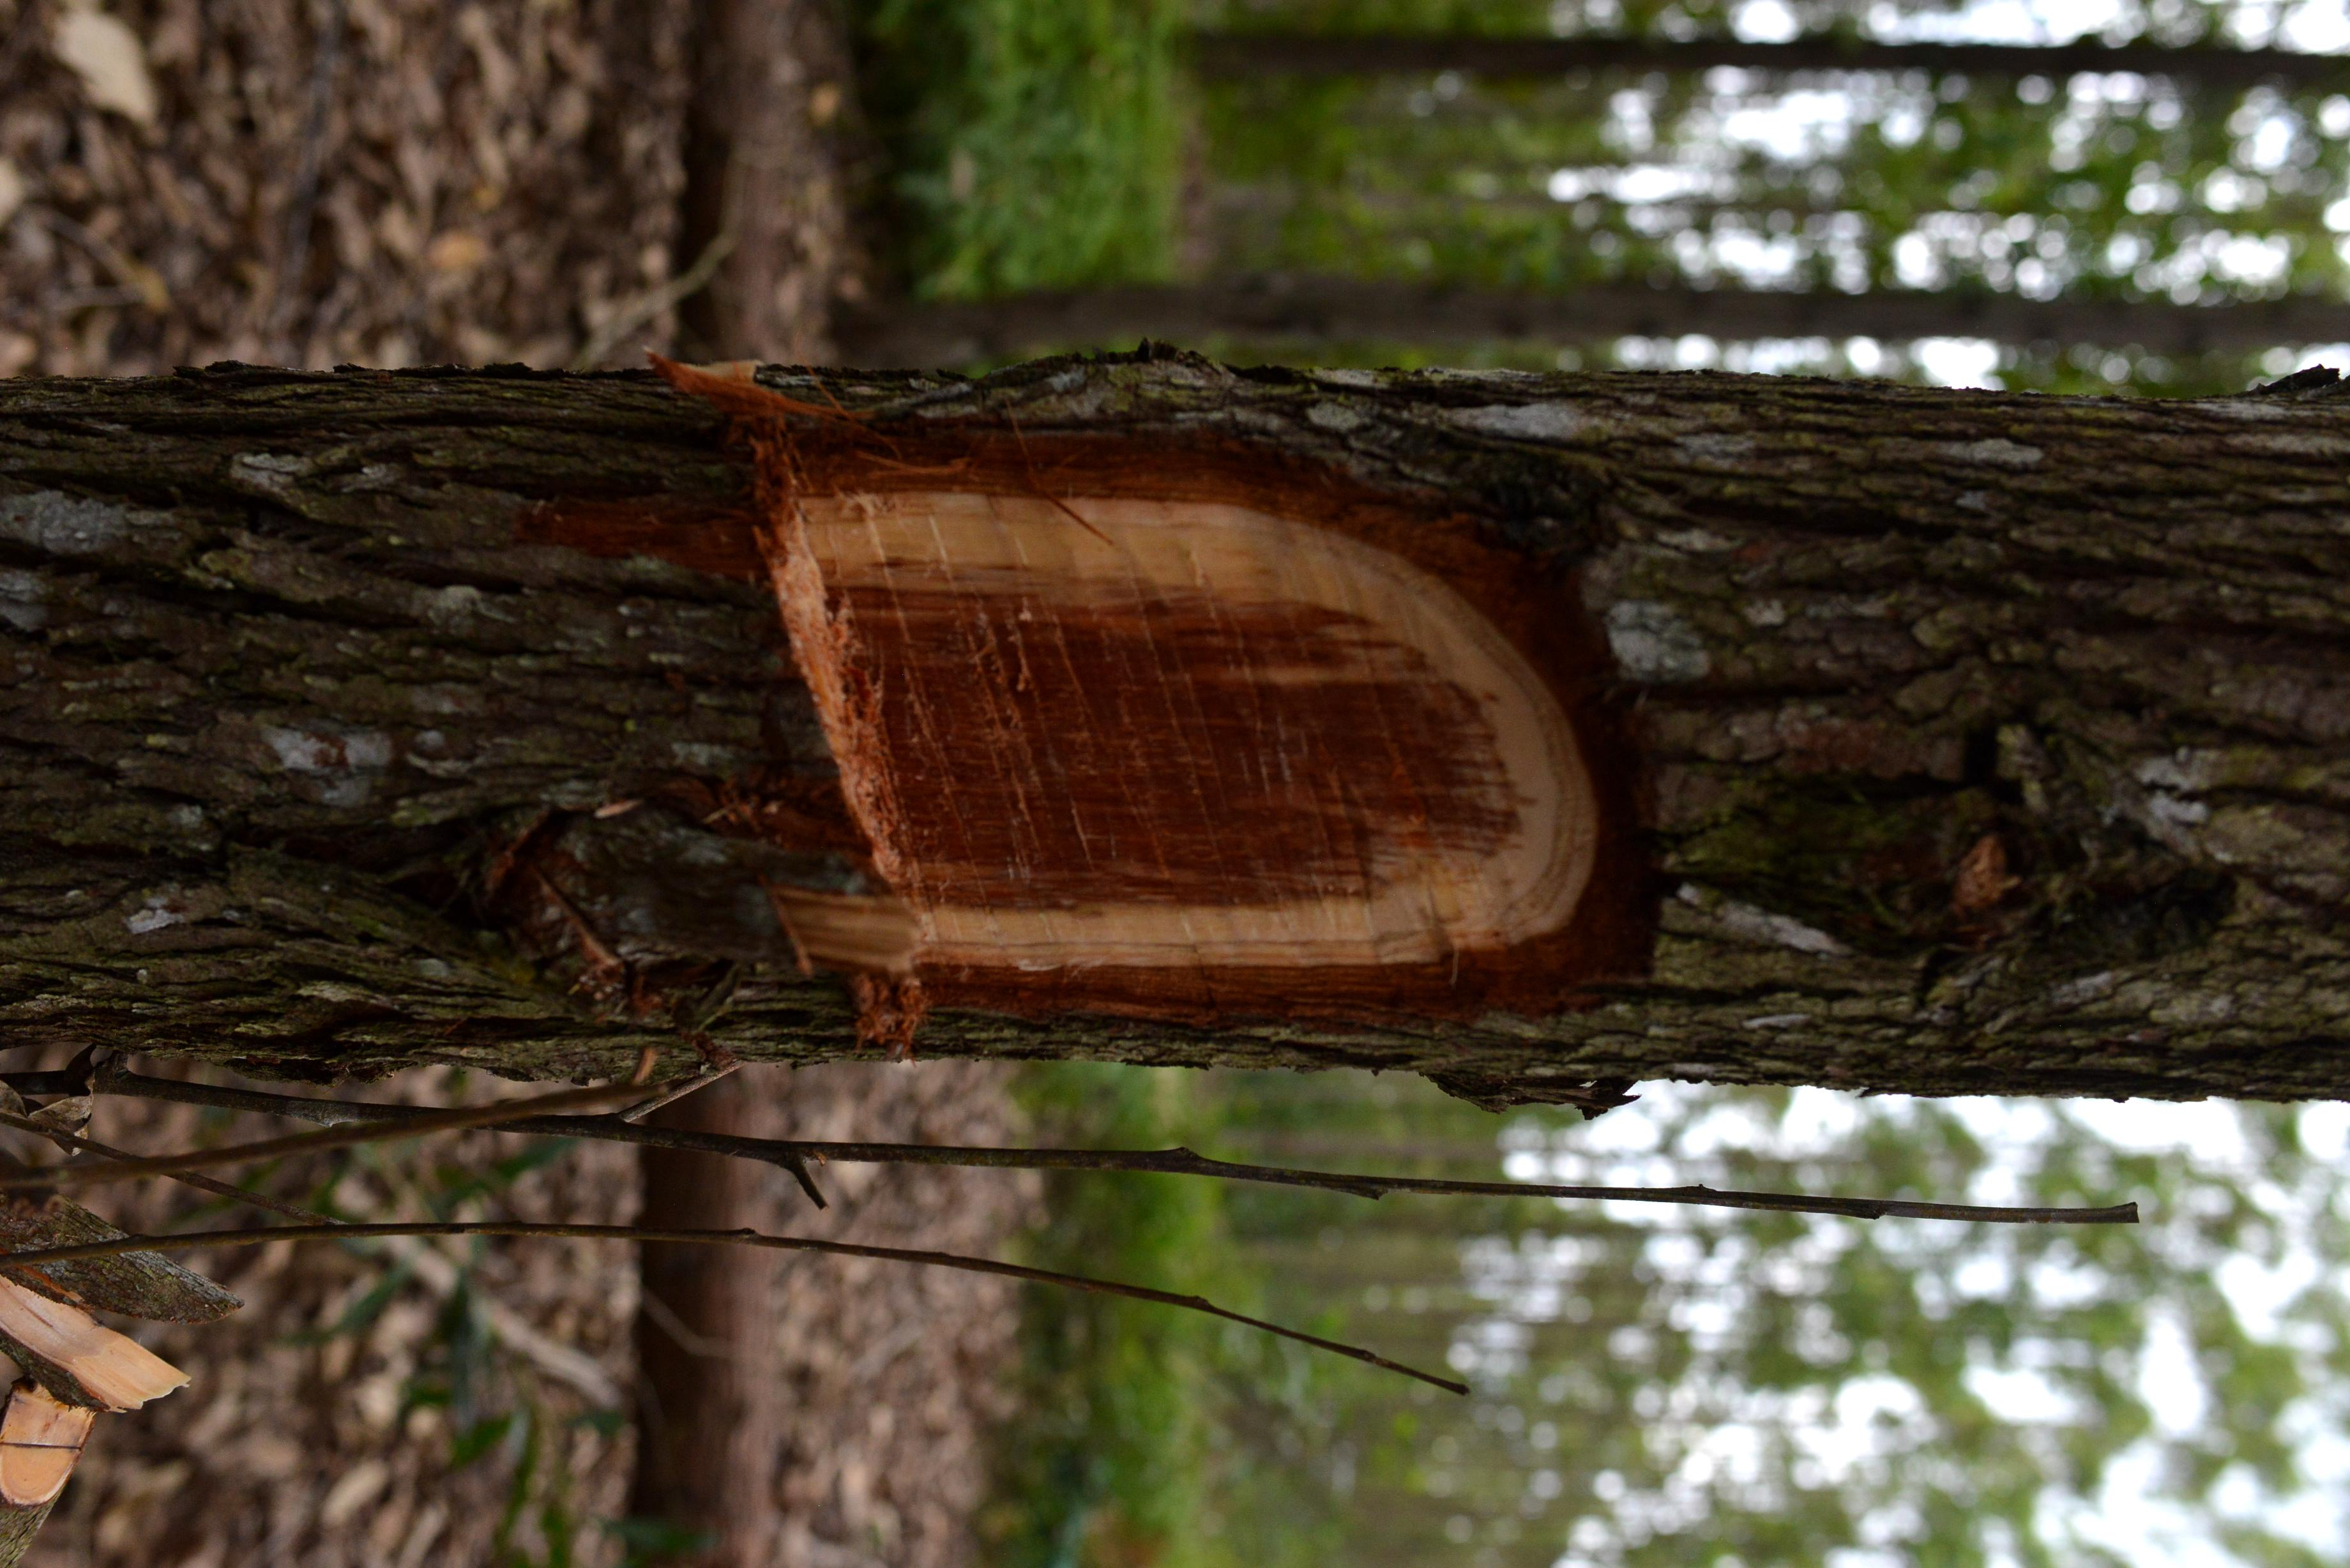Ceratocystis - Inner: (763, 444, 1612, 1020)
